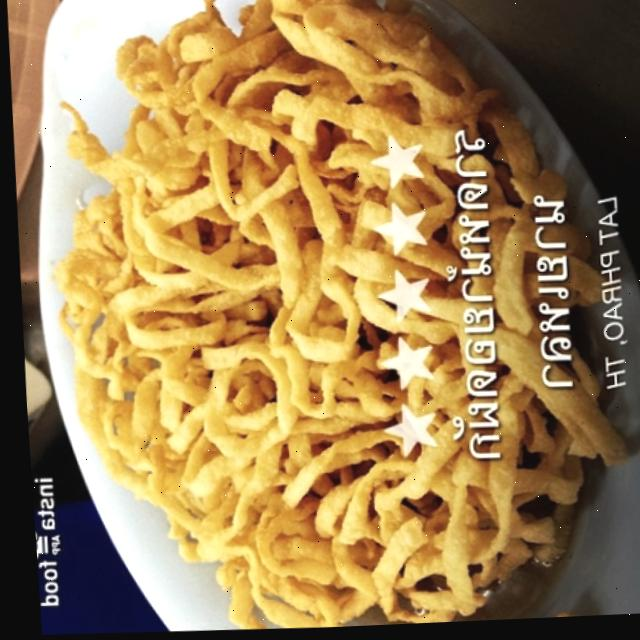面条主食: (26, 0, 640, 639)
